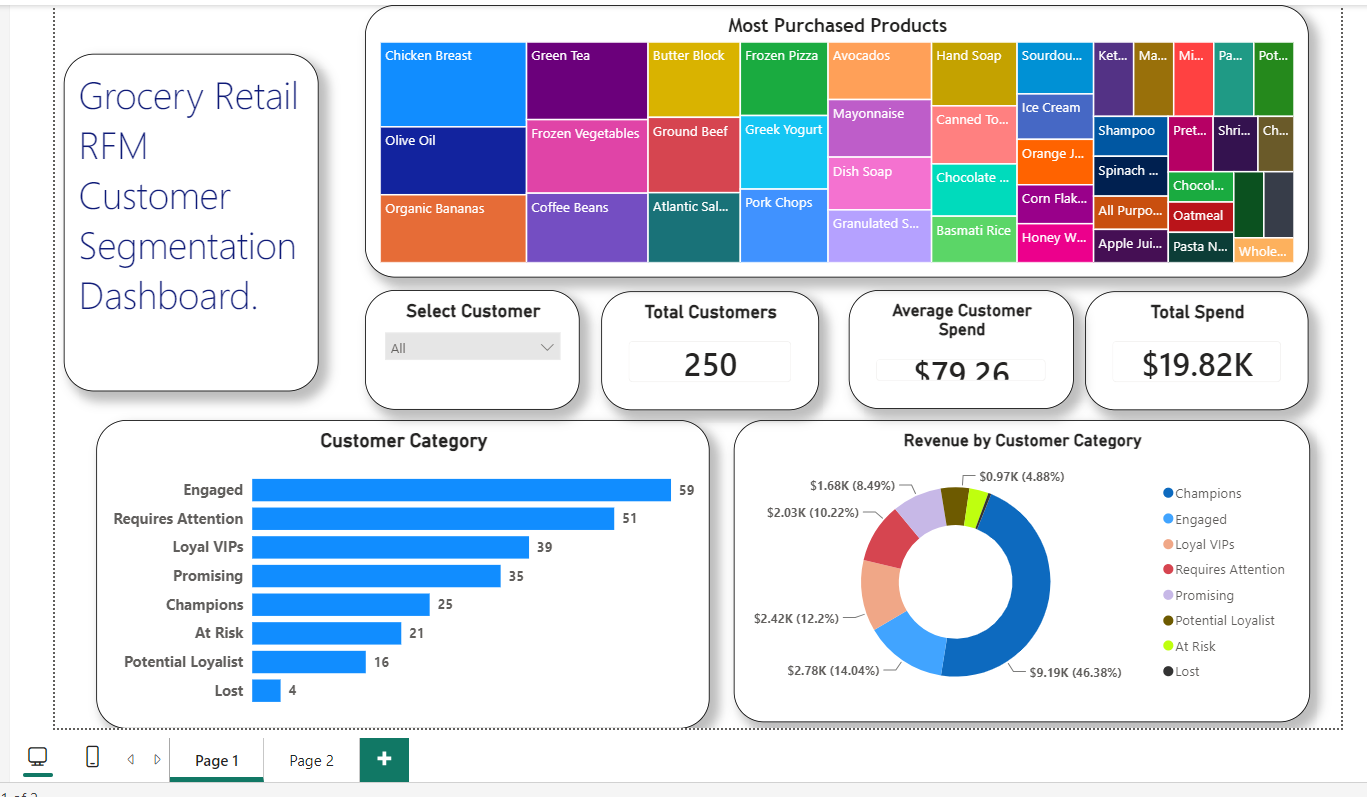

The page's visual inventory and layout, read from the dashboard file:
{"tool":"powerbi","page":{"name":"Page 1","canvas":[1280,720],"ordinal":0},"visuals":[{"type":"clusteredBarChart","title":"Customer Category","fields":{"Category":["Query1.Cust_Category"],"Y":["Count(Query1.CustId)"]},"box":[41.1,413,610.8,307.3],"z":0},{"type":"cardVisual","title":"Total Spend","fields":{"Data":["Sum(Query1.Tot_spend)"]},"box":[1025,284.9,222.7,118.2],"z":1000},{"type":"donutChart","title":"Revenue by Customer Category","fields":{"Category":["Query1.Cust_Category"],"Y":["Sum(Query1.Tot_spend)"]},"box":[675.5,413,573.5,301],"z":2000},{"type":"cardVisual","title":"Total Customers","fields":{"Data":["Count(Query1.CustId)"]},"box":[543.6,284.9,216.4,118.2],"z":3000},{"type":"cardVisual","title":"Average Customer Spend","fields":{"Data":["Query1.Measure 2"]},"box":[789.9,283.6,223.9,118.2],"z":4000},{"type":"treemap","title":"Most Purchased Products","fields":{"Group":["Query1.product_name"],"Values":["Sum(Query1.count_pro)"]},"box":[308.5,0,939.2,271.2],"z":5000},{"type":"slicer","title":"Select  Customer","fields":{"Values":["Query1.CustId"]},"box":[308.5,283.6,214,119.4],"z":6000},{"type":"textbox","box":[8.7,48.5,253.8,335.9],"z":7000}]}

Visuals, with their boxes on the page's 1280x720 design canvas (x1, y1, x2, y2). These are canvas units, not pixel positions in the 1367x797 screenshot, which may show the page scaled, cropped or inside an application window:
"Customer Category" clusteredBarChart: region(41, 413, 652, 720)
"Total Spend" cardVisual: region(1025, 285, 1248, 403)
"Revenue by Customer Category" donutChart: region(676, 413, 1249, 714)
"Total Customers" cardVisual: region(544, 285, 760, 403)
"Average Customer Spend" cardVisual: region(790, 284, 1014, 402)
"Most Purchased Products" treemap: region(308, 0, 1248, 271)
"Select  Customer" slicer: region(308, 284, 522, 403)
textbox: region(9, 48, 262, 384)
